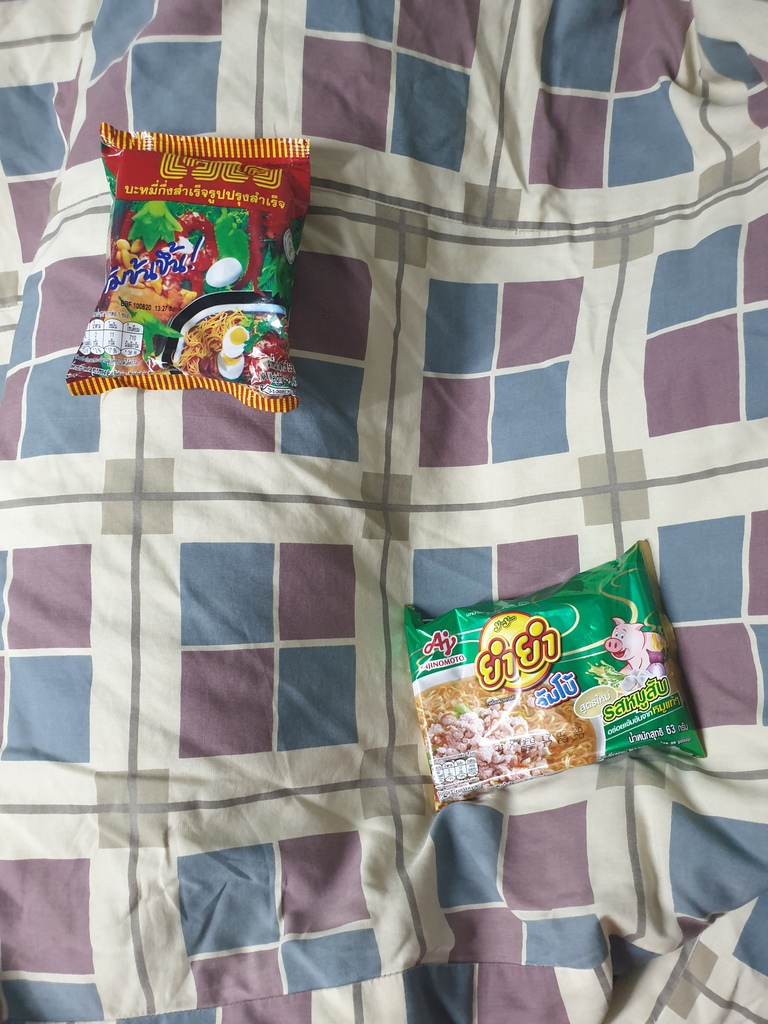waiwai: (88, 123, 313, 418)
yumyum: (397, 572, 726, 780)
